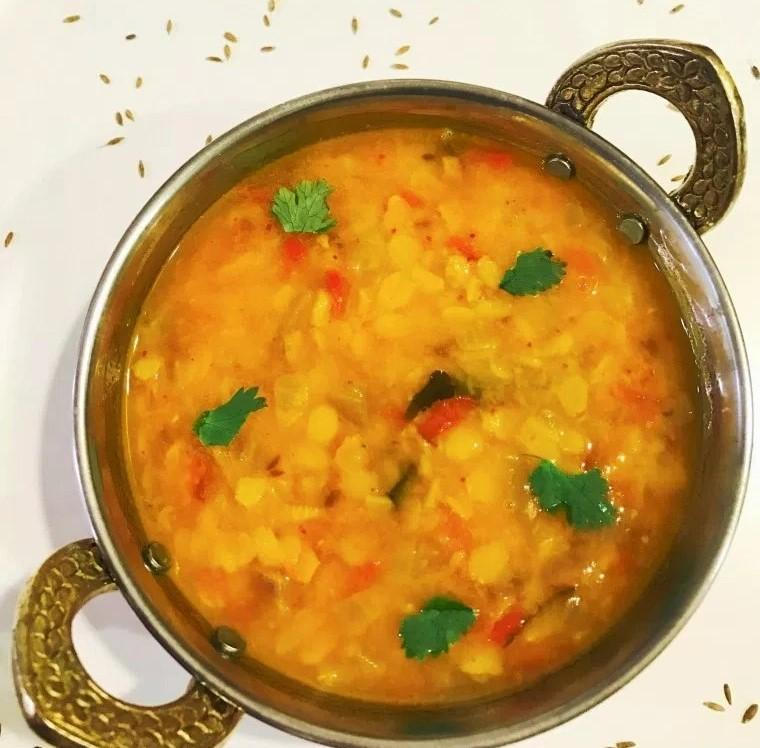Dal: (126, 127, 701, 700)
